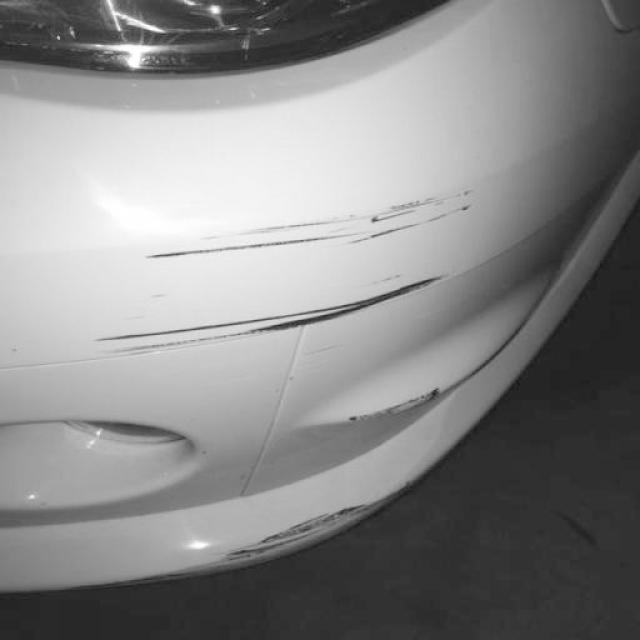car damage: (96, 190, 480, 358), (76, 483, 408, 587), (339, 388, 444, 428)
